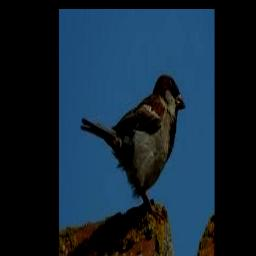Sparrow: (80, 75, 185, 222)
